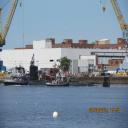submarine: (29, 66, 99, 87)
